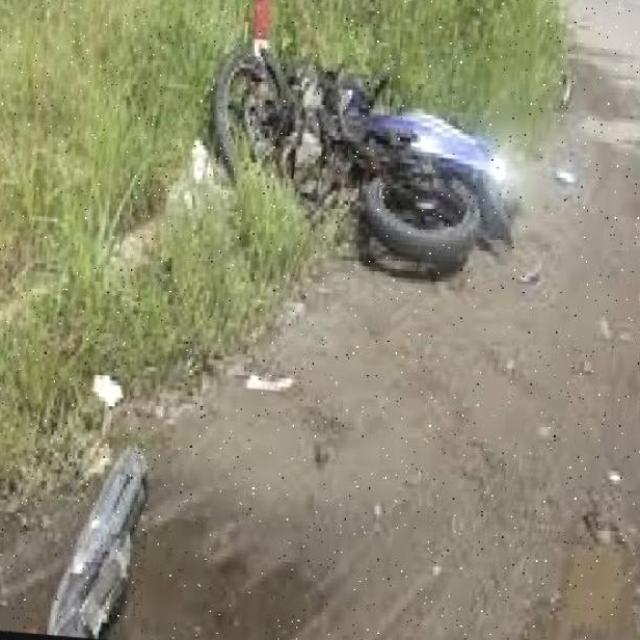accident: (185, 0, 550, 305)
